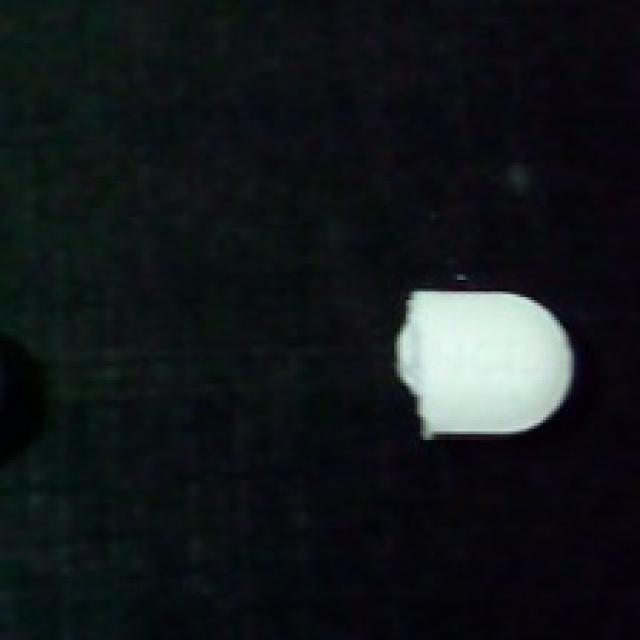defected: (386, 274, 577, 449)
